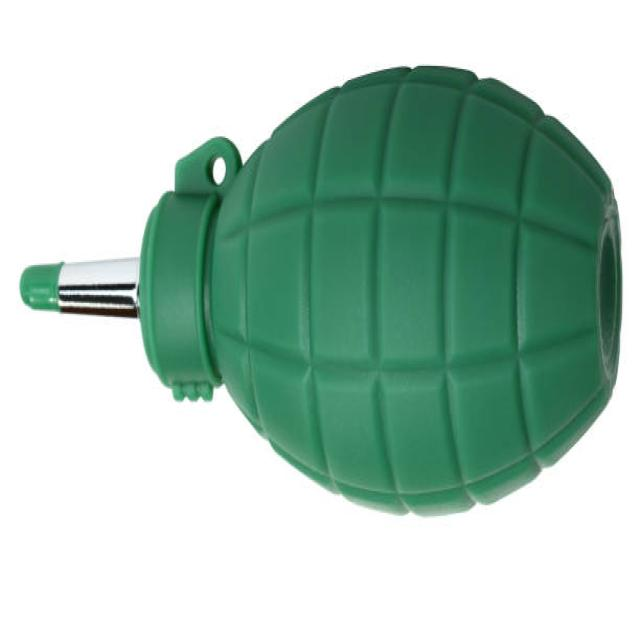grenade: (17, 54, 626, 520)
